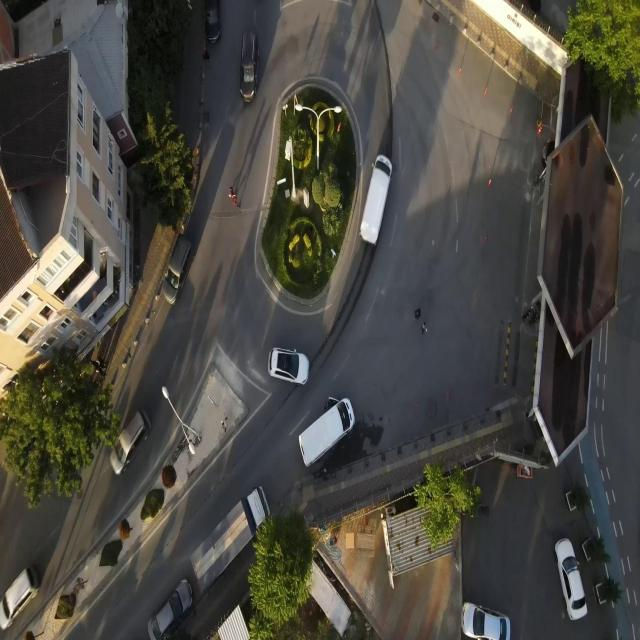p3rson: (228, 186, 238, 200), (529, 313, 539, 326), (221, 416, 228, 433), (522, 309, 531, 322), (203, 46, 210, 61), (96, 356, 106, 366), (89, 358, 99, 368), (97, 366, 106, 377), (414, 308, 421, 322), (421, 321, 428, 335), (232, 198, 240, 209)
